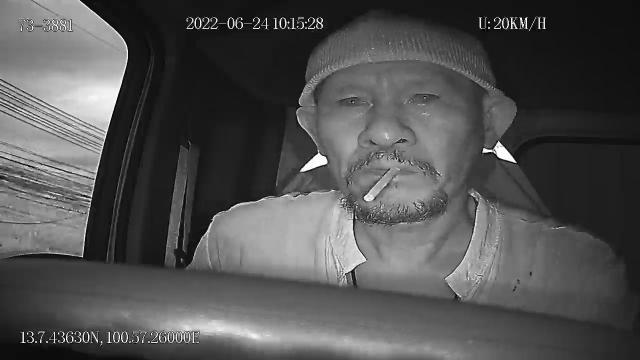SafeDriving: (396, 78, 447, 113), (328, 83, 377, 114)
Smoking: (364, 166, 402, 207)
